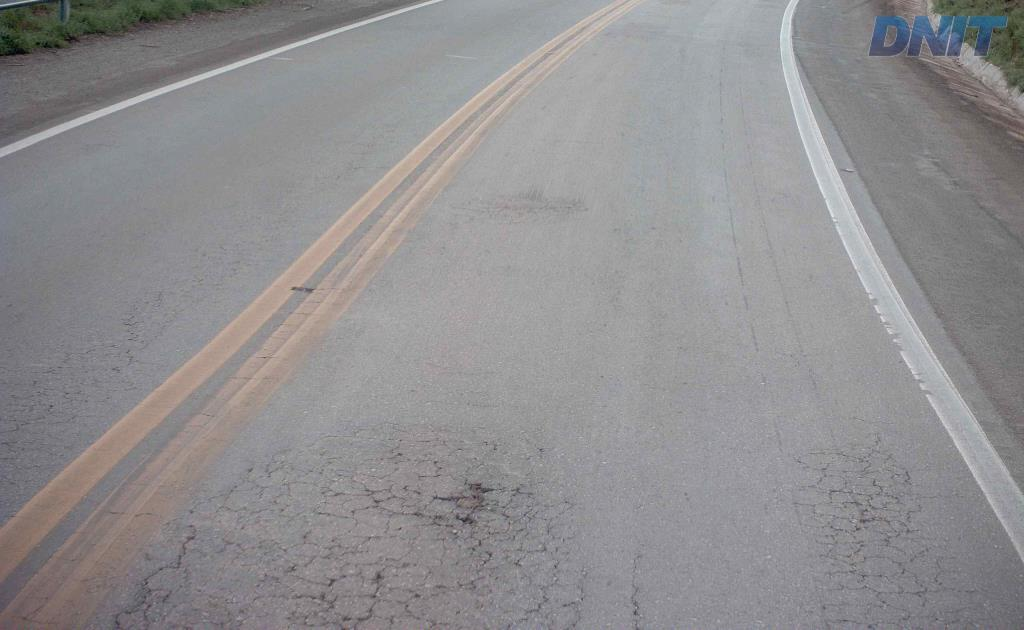crack: (431, 461, 506, 529), (822, 470, 913, 524), (106, 571, 162, 629)
